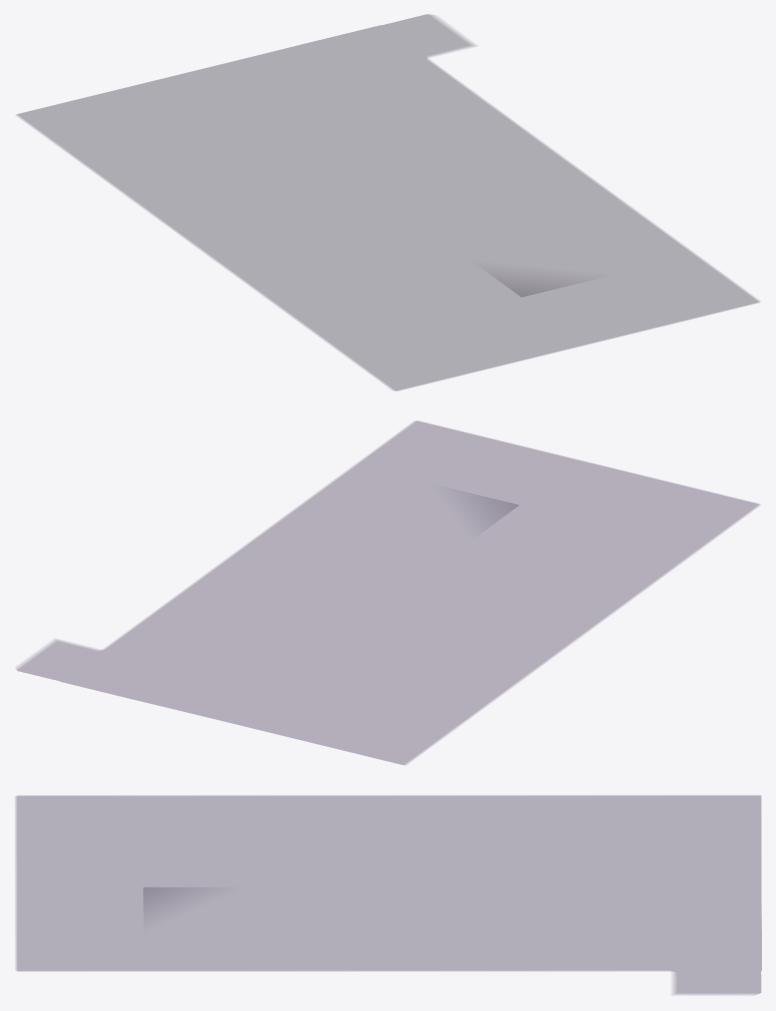
3 views of the same model, one above another, from view 1: azimuth 30°, elevation 25°; view 2: azimuth 150°, elevation 25°; view 3: azimuth 270°, elevation 25° (orthographic). The views are drawn at different scales.
Parts seen in each view (by area): view 1: Joint_0_Object_0; view 2: Joint_0_Object_0; view 3: Joint_0_Object_0.
Part boxes in pixels (left/top/right/bottom): Joint_0_Object_0: left=17, top=14, right=759, bottom=390; Joint_0_Object_0: left=16, top=421, right=759, bottom=764; Joint_0_Object_0: left=16, top=795, right=761, bottom=994.
Size of the model in its own units: 2787 by 0 by 4357.
Materials: 1 (1 with a texture image).
